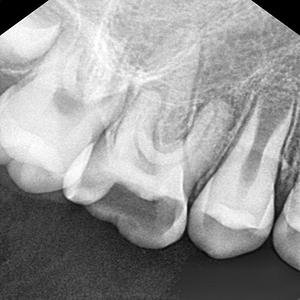tooth: (63, 89, 235, 254), (0, 29, 128, 203), (182, 99, 296, 252)
